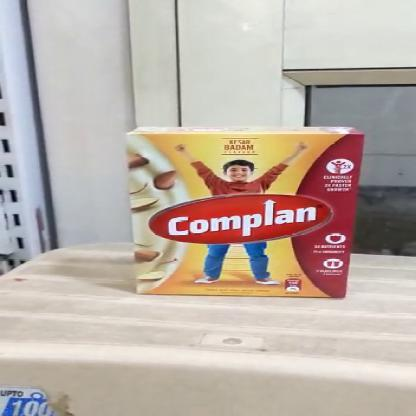Complan Kesar Badam: (116, 120, 372, 306)
